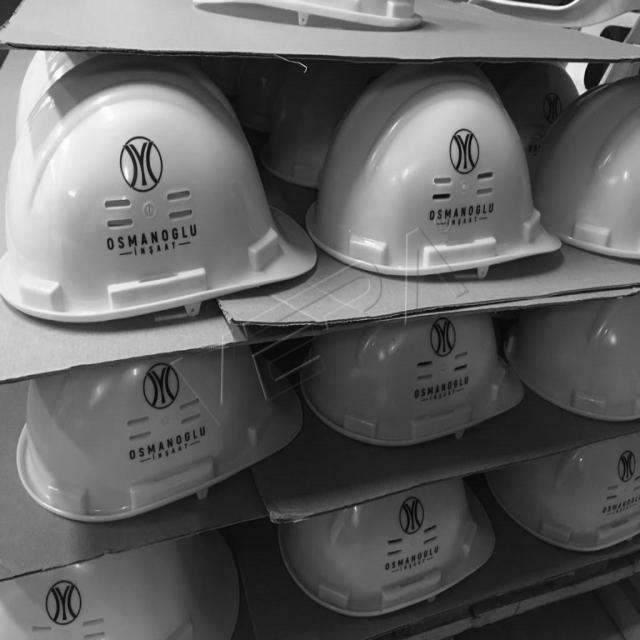construction helmet: (0, 51, 317, 325), (16, 345, 303, 524), (307, 78, 561, 280)
